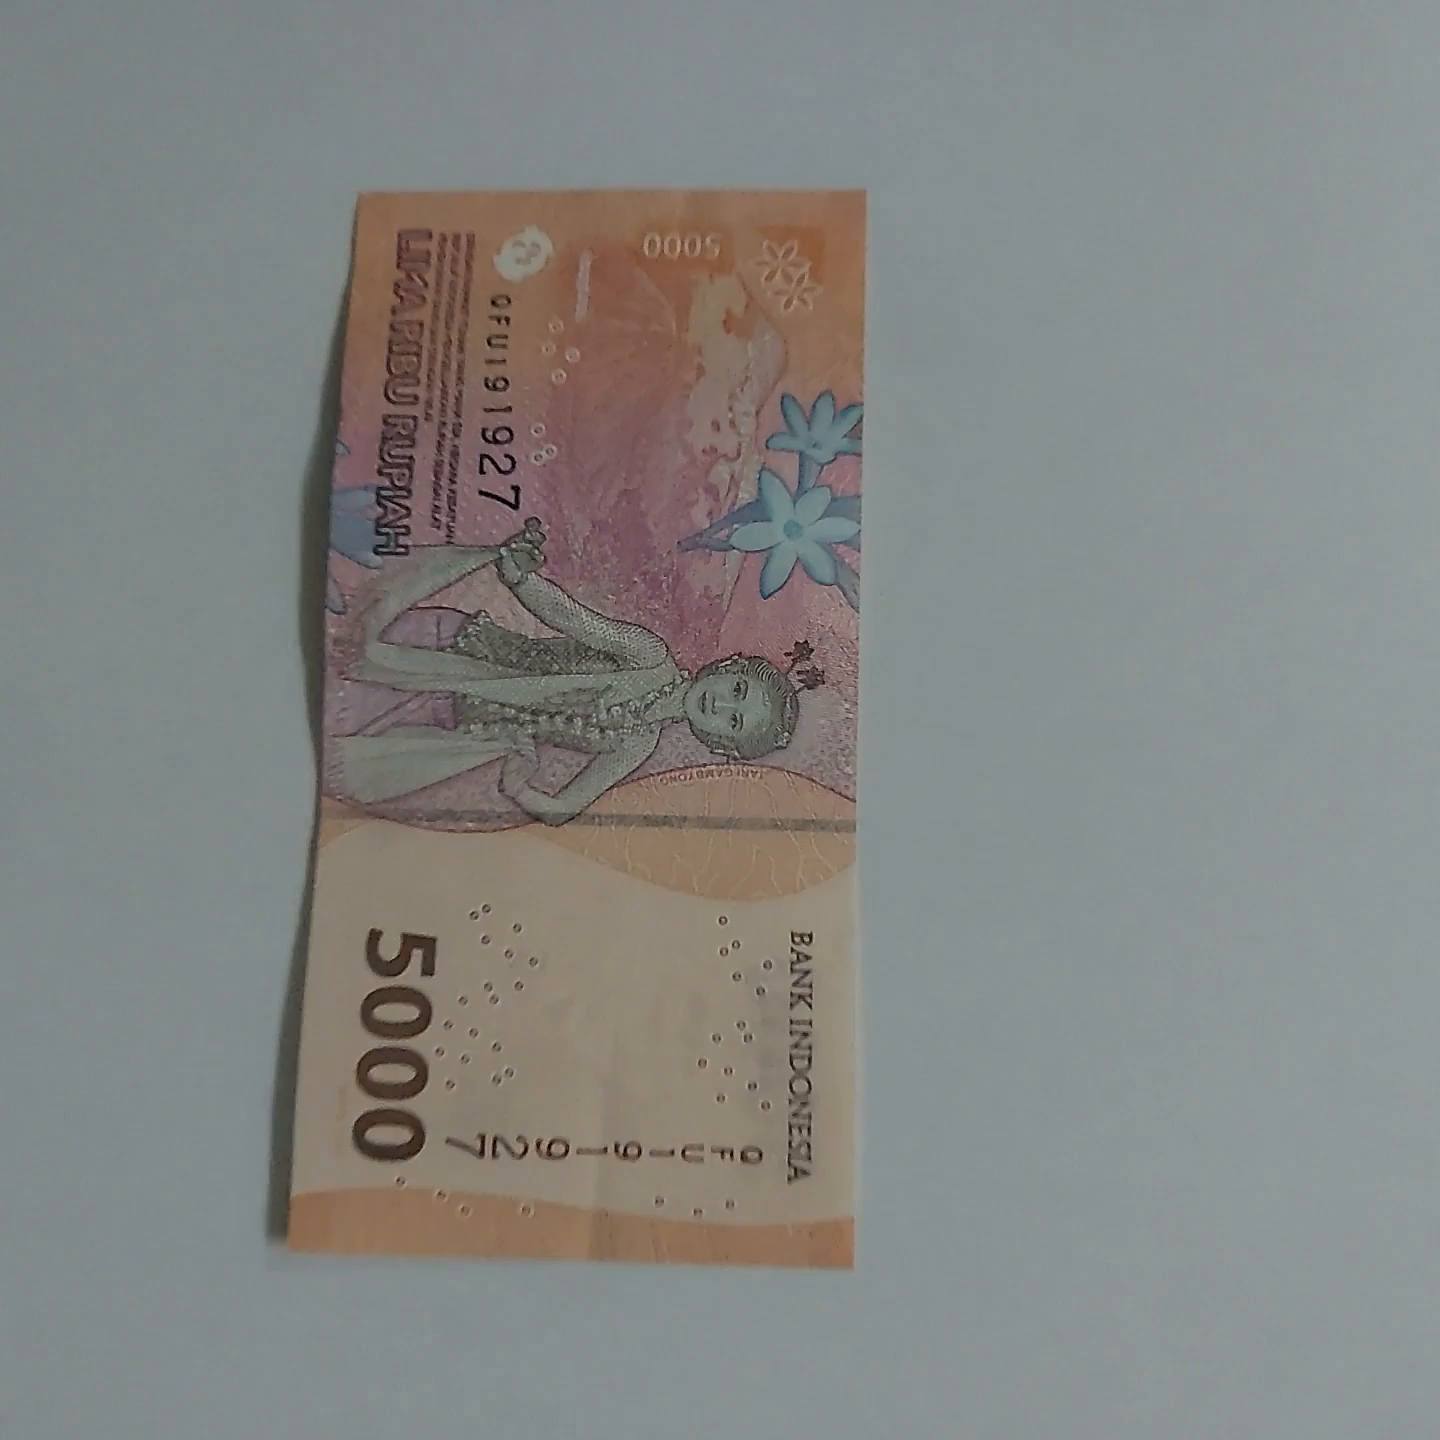5k: (277, 162, 866, 1265)
